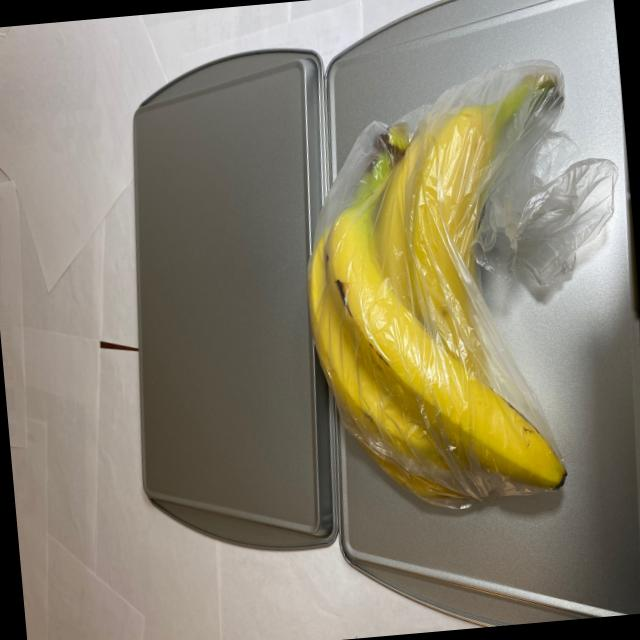banana: (284, 39, 598, 531)
